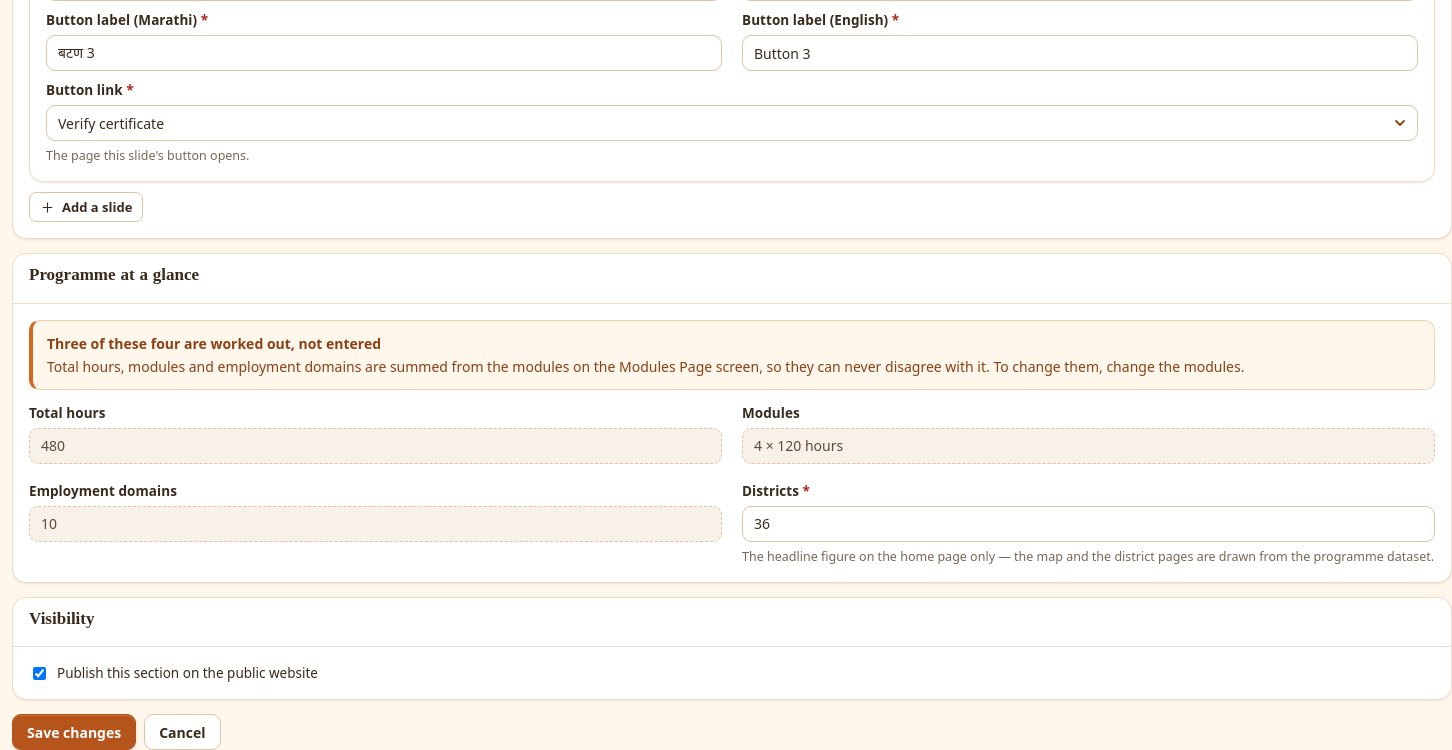
Test: Home Hero Section CMS › form › says an unpublished banner is hidden from the website, the glance card included
This screenshot has width=1452, height=750.
(page scrolled)
Click the checkbox labelled "Publish this section on the public website".
click(40, 673)  # box [33,667,46,680]
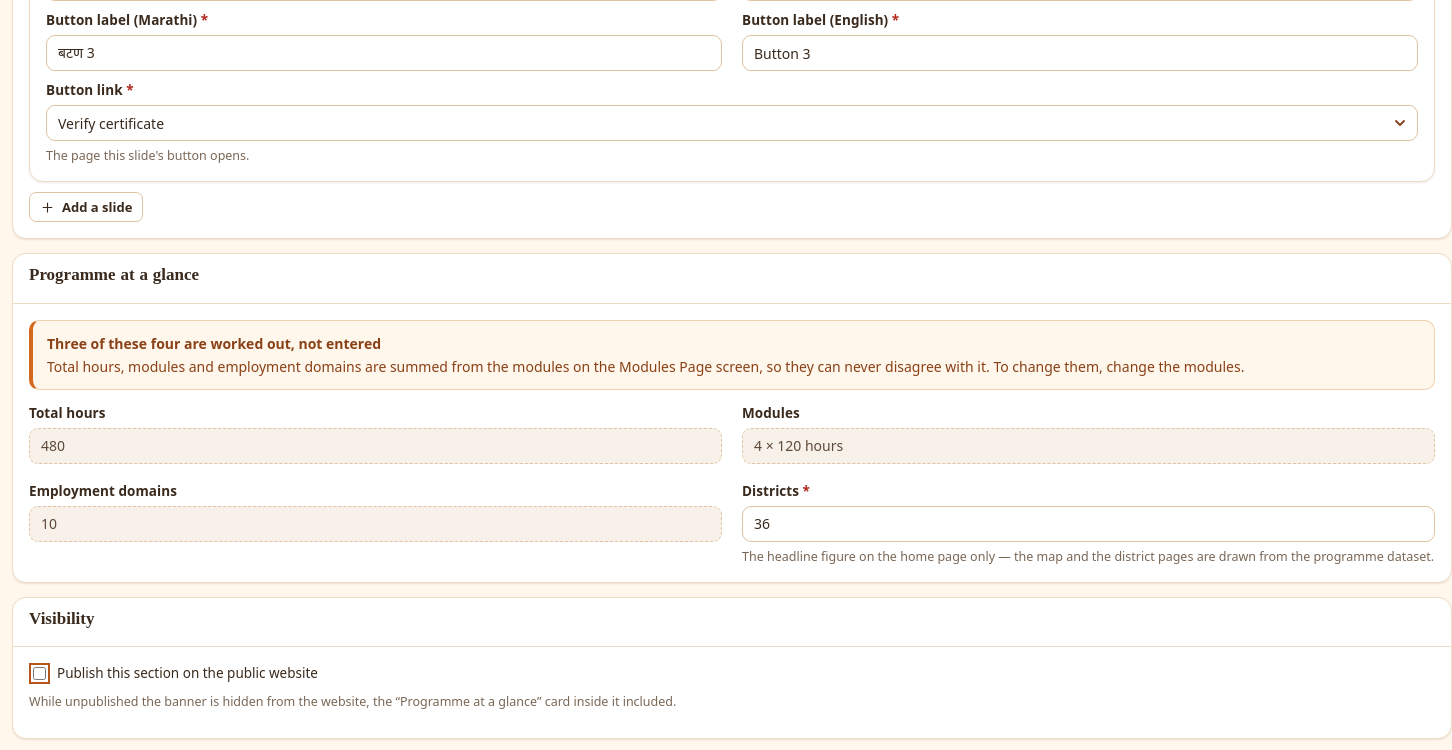
Expected: the text "While unpublished the banner is hidden from the website, the “Programme at a glance” card inside it included." is shown, [29,693,676,710]
